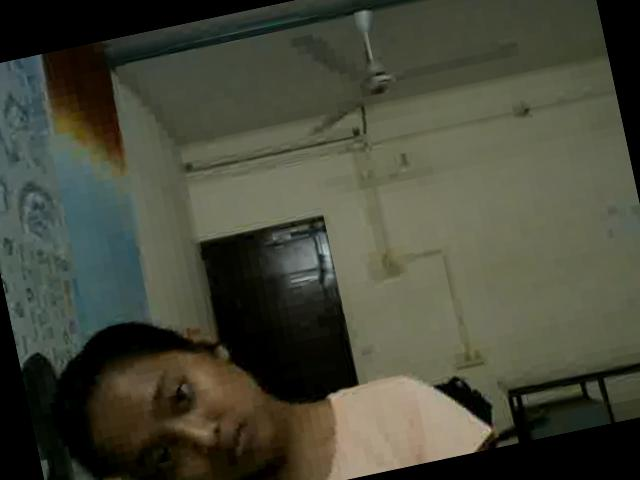bosan: (81, 322, 283, 480)
